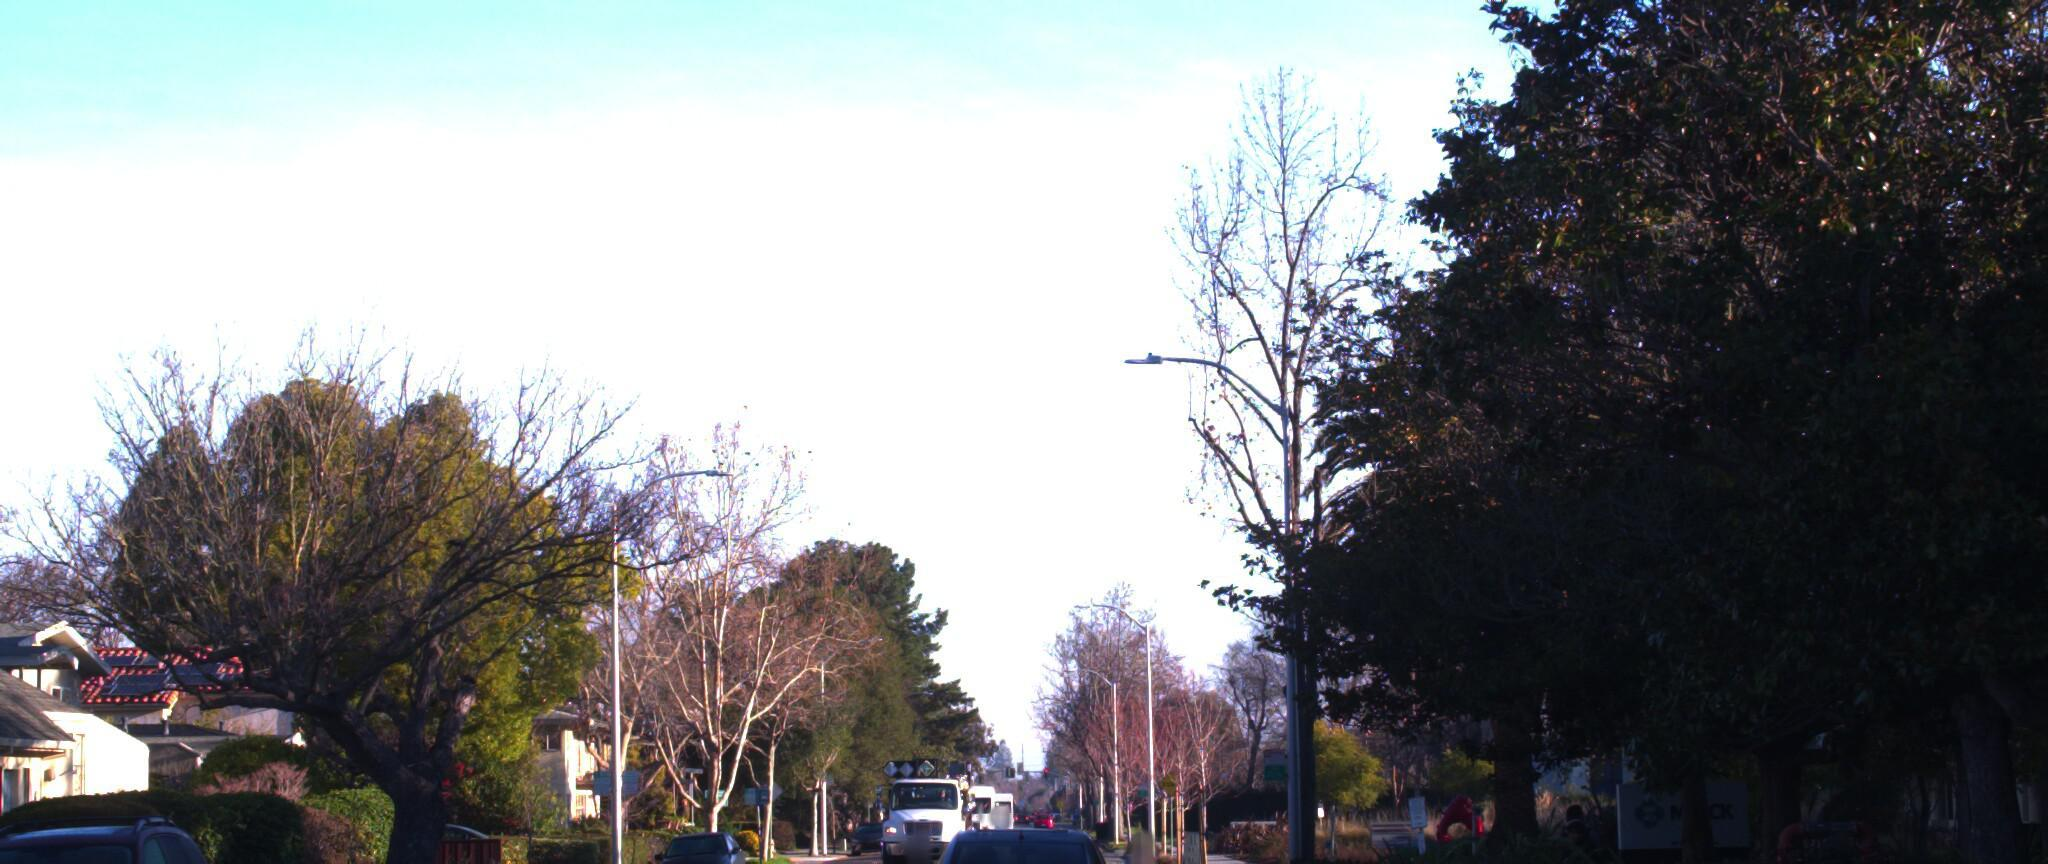car: (0, 799, 273, 864), (900, 810, 1148, 864), (643, 809, 754, 864)
